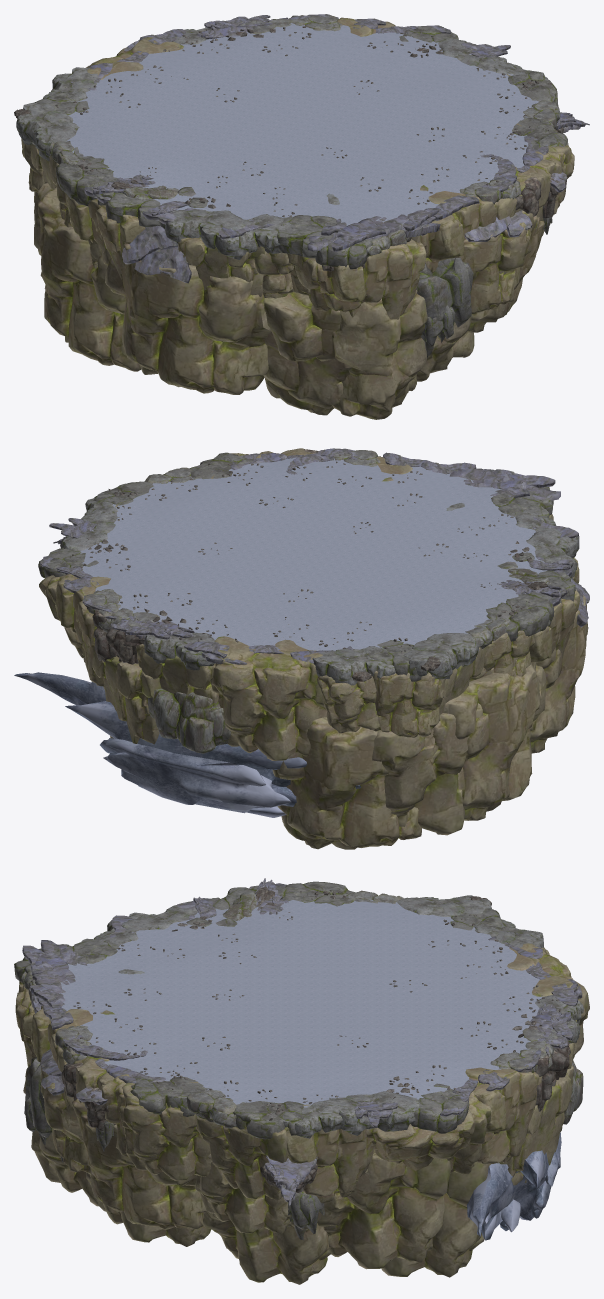
The model's file is arena_boyce.glb.
The picture shows the model from 3 angles, top to bottom: view 1: azimuth 30°, elevation 25°; view 2: azimuth 150°, elevation 25°; view 3: azimuth 270°, elevation 25°; orthographic projection. The views are drawn at different scales.
Visible parts, largest first — view 1: arena; view 2: arena; view 3: arena.
Boxes of the visible parts, box(x1,y1,x2,y2) form: arena: box(14, 14, 589, 419); arena: box(14, 448, 589, 849); arena: box(14, 878, 589, 1284).
Bounding box in the file's own units: 46.88 × 18.96 × 43.84.
17 materials, 17 textured.
